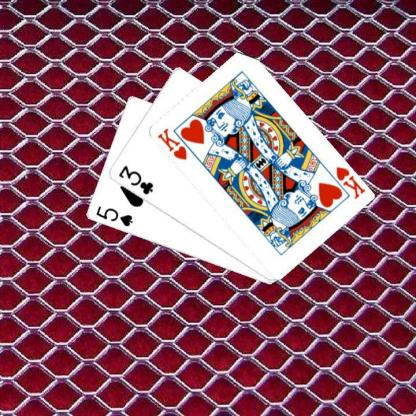3C: (116, 162, 154, 197)
5S: (93, 204, 133, 228)
KH: (154, 126, 188, 162), (333, 164, 366, 200)
